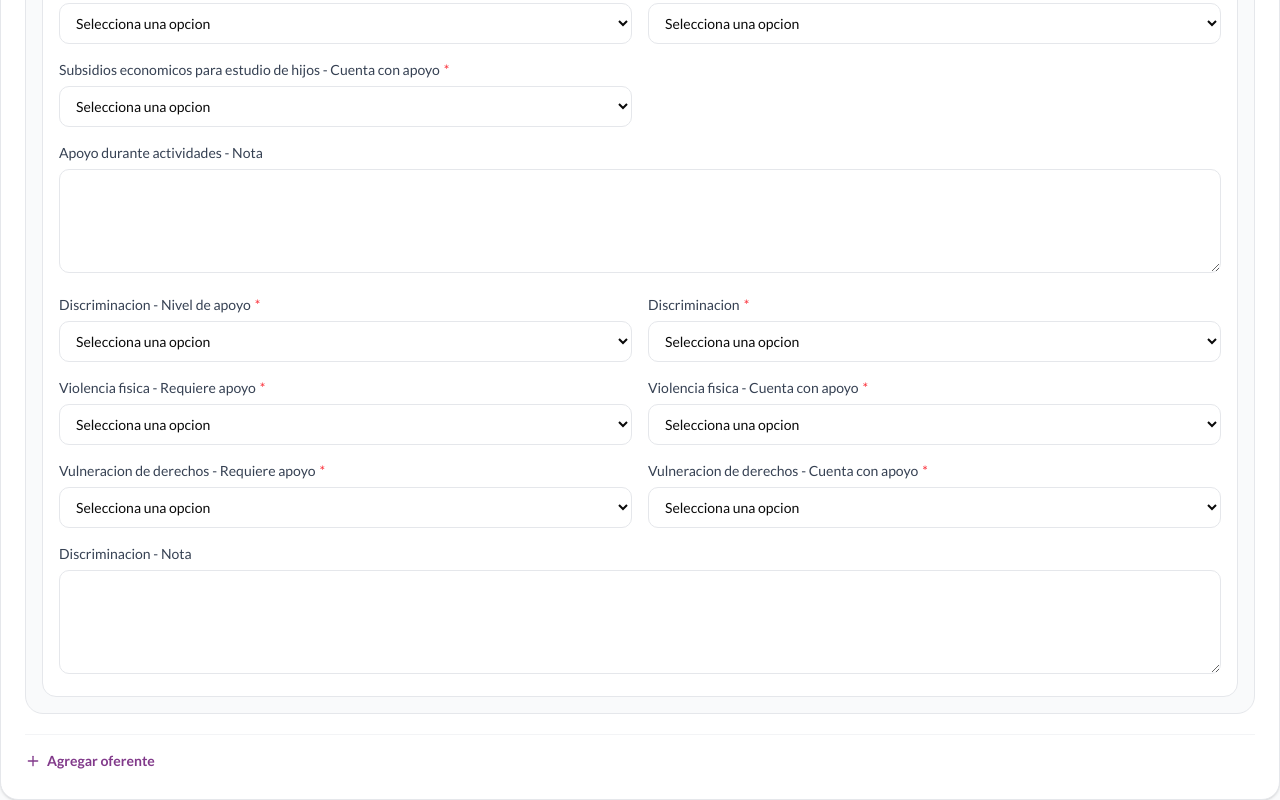
Test: SeleccionOferentesSection failed visit rows › agrega nuevas filas con campos compatibles en No aplica
The width and height of the screenshot is (1280, 800).
(page scrolled)
Click the button with test id "oferentes-add-button-bottom" at (90, 761), box [25, 751, 155, 771]
(page scrolled)
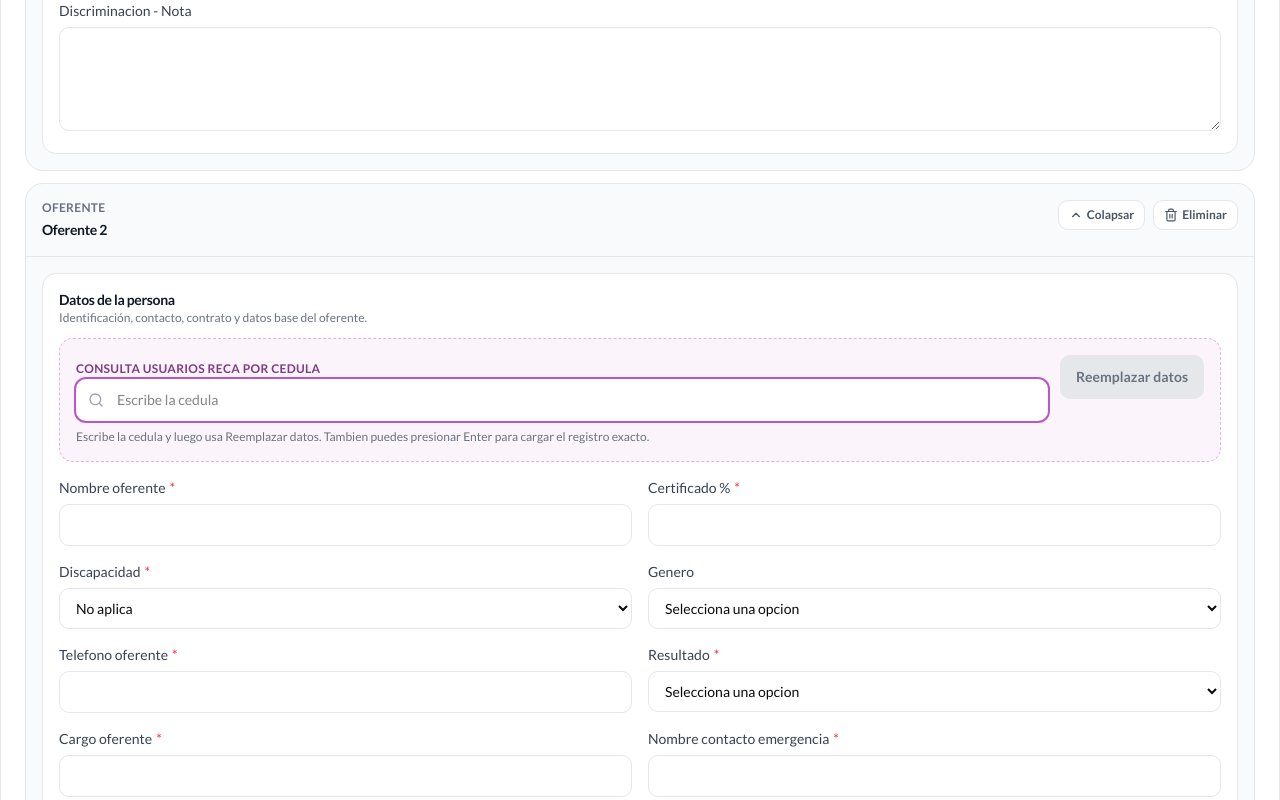
Now the dropdown with test id "oferentes.1.discapacidad" shows "No aplica", box [59, 588, 632, 629]
Now the field with test id "oferentes.1.nombre_oferente" is empty, box [59, 504, 632, 546]
